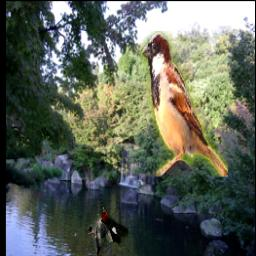Sparrow: (140, 31, 228, 177)
Woodpecker: (88, 205, 128, 256)
